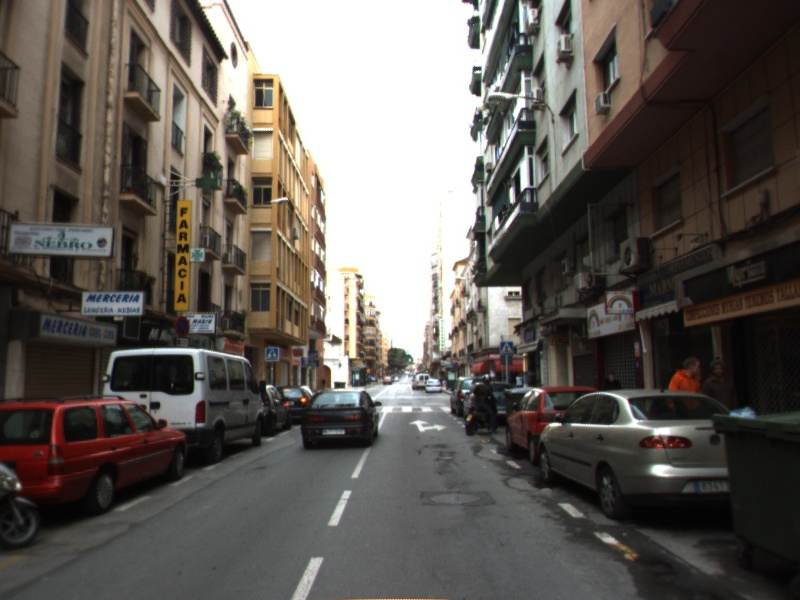STRAIGHT_RIGHT: (407, 418, 449, 434)
